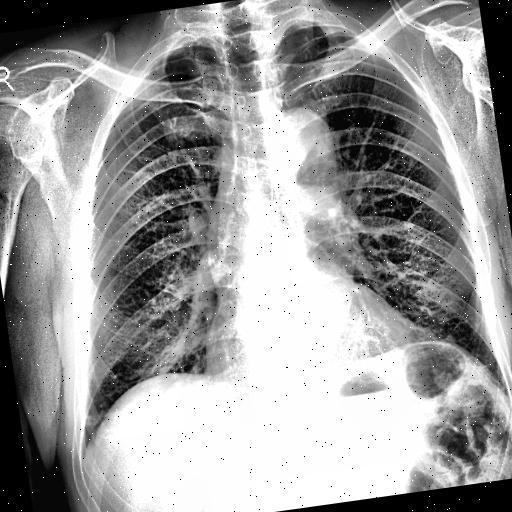0- Aortic enlargement: (274, 102, 340, 191), (266, 103, 338, 183), (262, 102, 336, 172)
11- Pleural thickening: (123, 44, 189, 92)
7- Lung Opacity: (473, 360, 496, 374), (84, 413, 104, 426)
